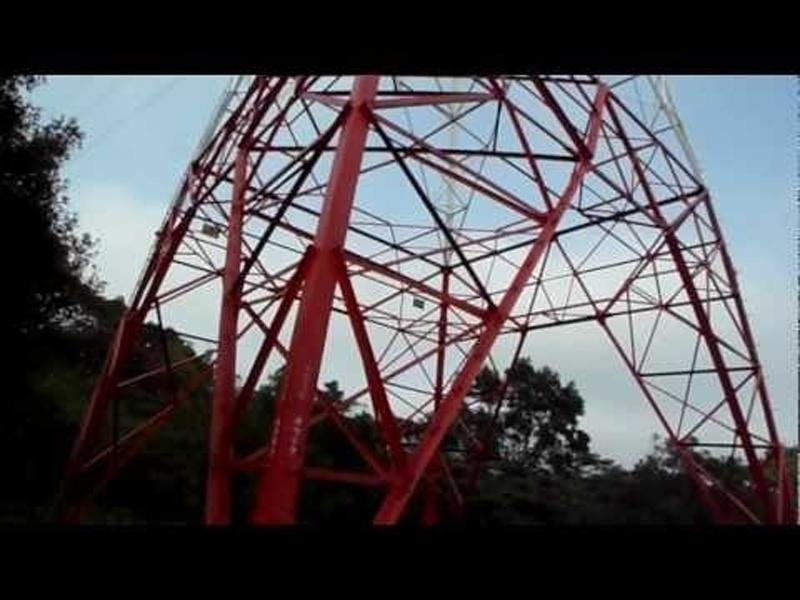power_tower: (116, 76, 777, 516)
